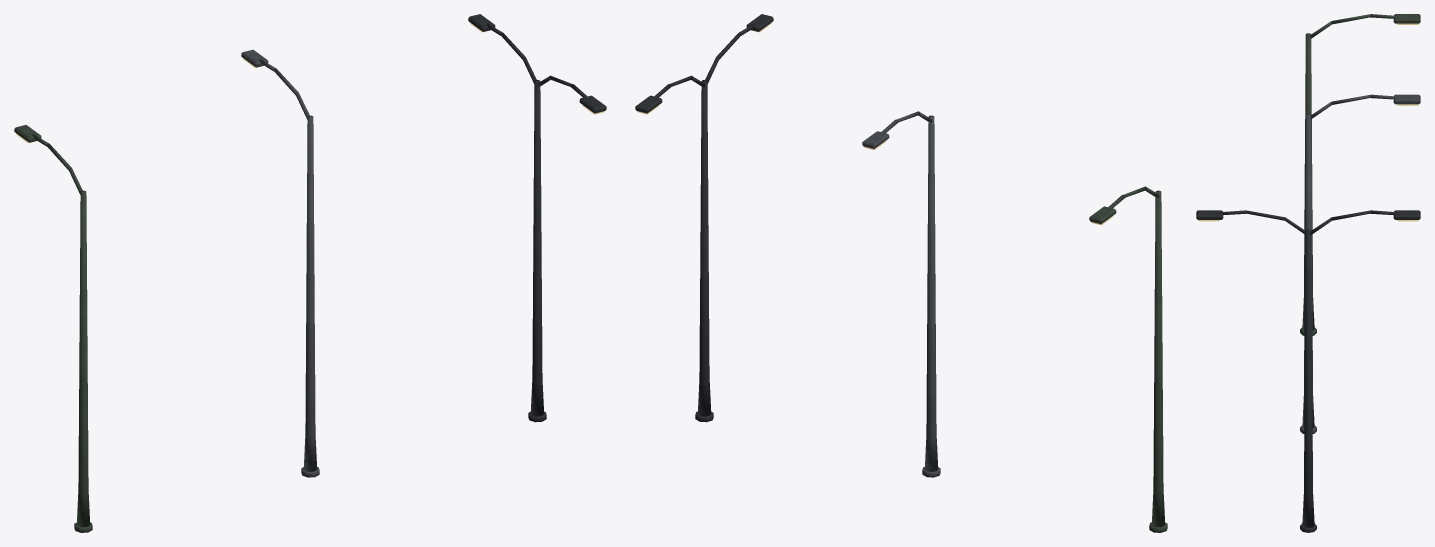
The model's file is lamp_cobra.glb.
3 renders of one model, left to right at view 1: azimuth 30°, elevation 25°; view 2: azimuth 150°, elevation 25°; view 3: azimuth 270°, elevation 25°, orthographic. The views are drawn at different scales.
Parts seen in each view (by area): view 1: lamp_cobra_v3, lamp_cobra_v2, lamp_cobra_v1; view 2: lamp_cobra_v3, lamp_cobra_v2, lamp_cobra_v1; view 3: lamp_cobra_v3, lamp_cobra_v2, lamp_cobra_v1.
Part boxes in pixels (x1,y1,x2,y2): lamp_cobra_v3: (468, 14, 606, 422); lamp_cobra_v2: (241, 49, 319, 477); lamp_cobra_v1: (14, 125, 92, 532); lamp_cobra_v3: (635, 14, 773, 422); lamp_cobra_v2: (862, 111, 940, 477); lamp_cobra_v1: (1089, 186, 1167, 532); lamp_cobra_v3: (1196, 210, 1420, 532); lamp_cobra_v2: (1300, 94, 1420, 433); lamp_cobra_v1: (1300, 14, 1420, 335).
Size of the model in its own units: 12.44 by 9.6 by 5.8.
2 materials, 2 textured.
